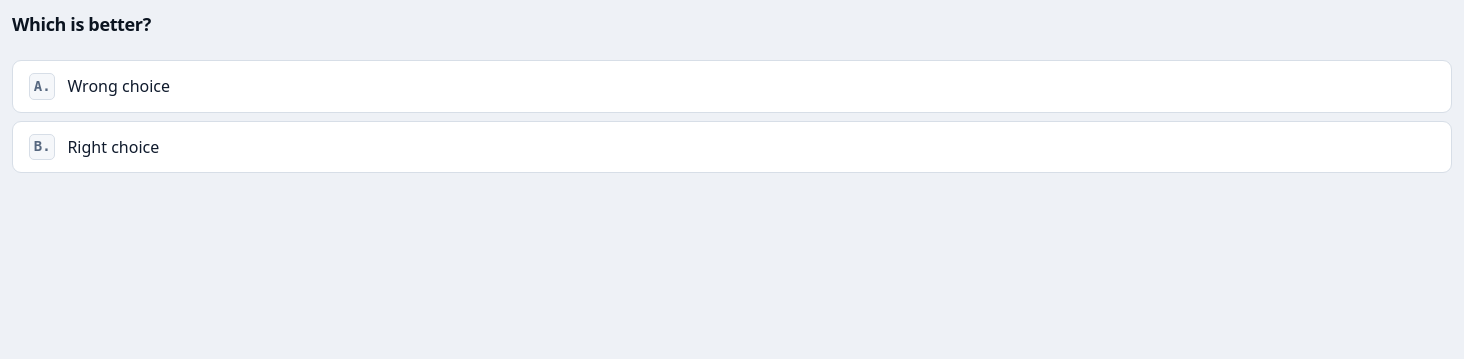
Test: CorrectionCard › allows retrying after an incorrect attempt until correct
The width and height of the screenshot is (1464, 359).
Later steps or results of the test are not shown.
Click the button "A. Wrong choice" at (119, 86), box [12,60,1452,113]
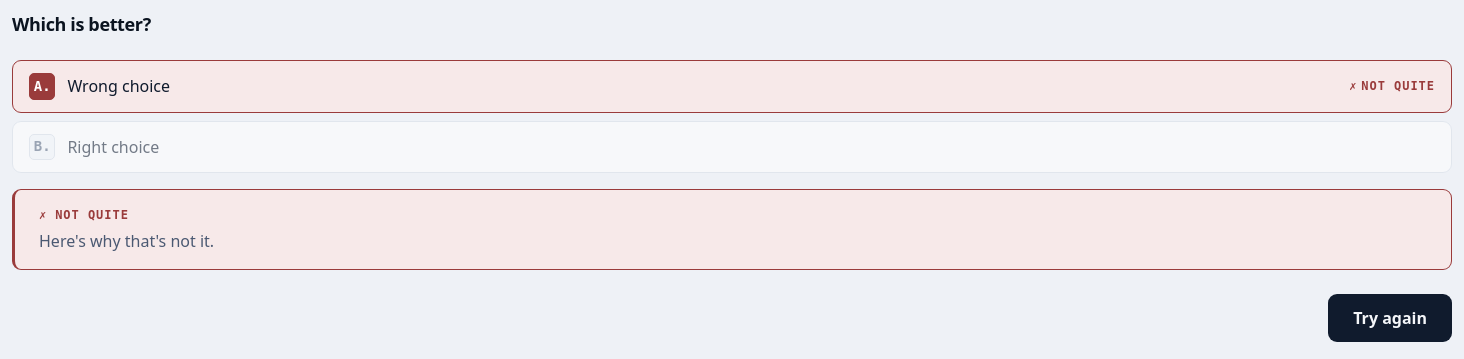
Expected: the text "Here's why that's not it." is shown, [39,230,214,252]
Click the button "Try again" at (1390, 318), box [1328,294,1452,342]
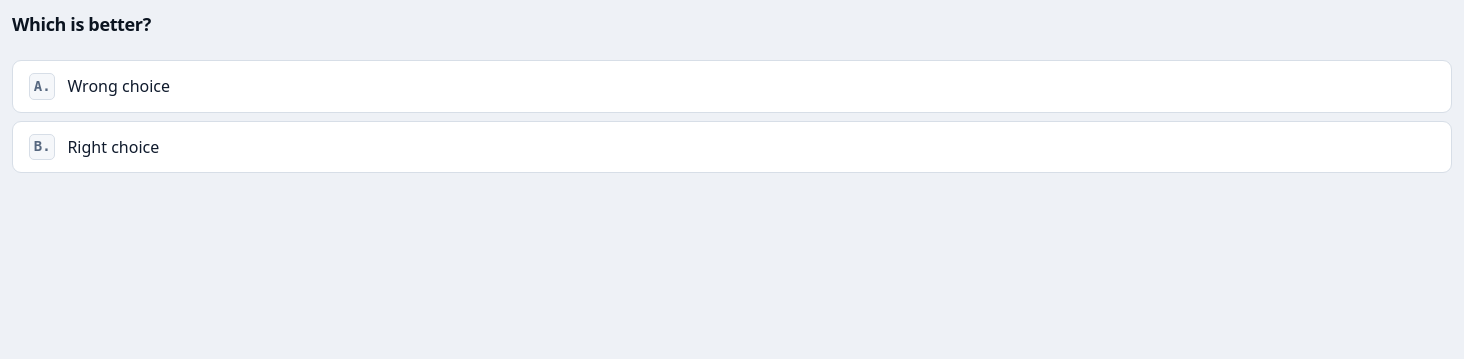
Click the button "B. Right choice" at (113, 147), box [12,121,1452,173]
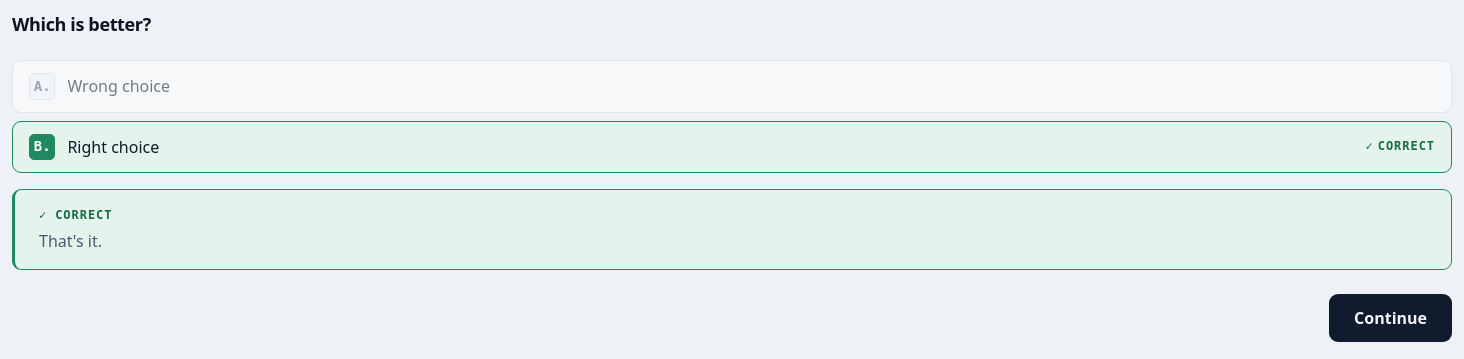
Expected: the text "That's it." is shown, [39,230,102,252]
